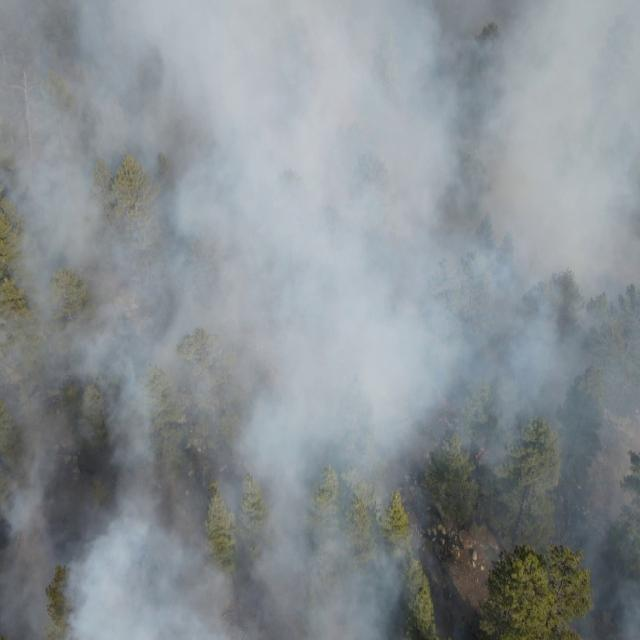fire: (474, 446, 490, 464)
smoke: (1, 0, 640, 506), (0, 505, 424, 640), (511, 510, 640, 640)
